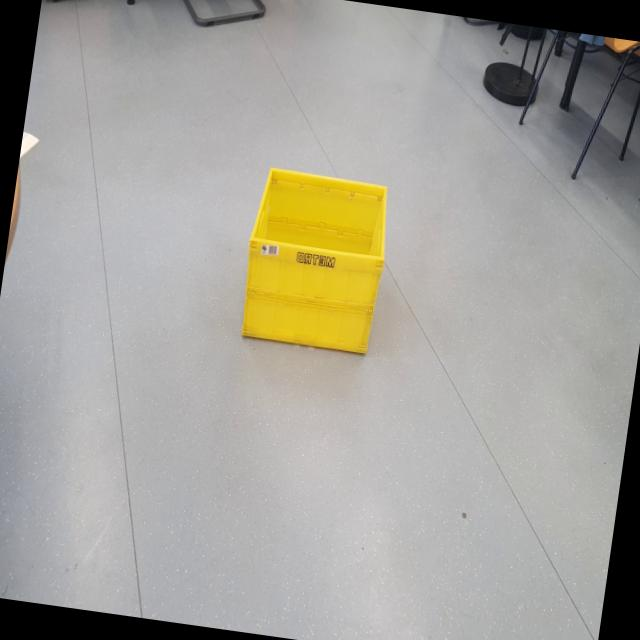box: (222, 132, 408, 406)
